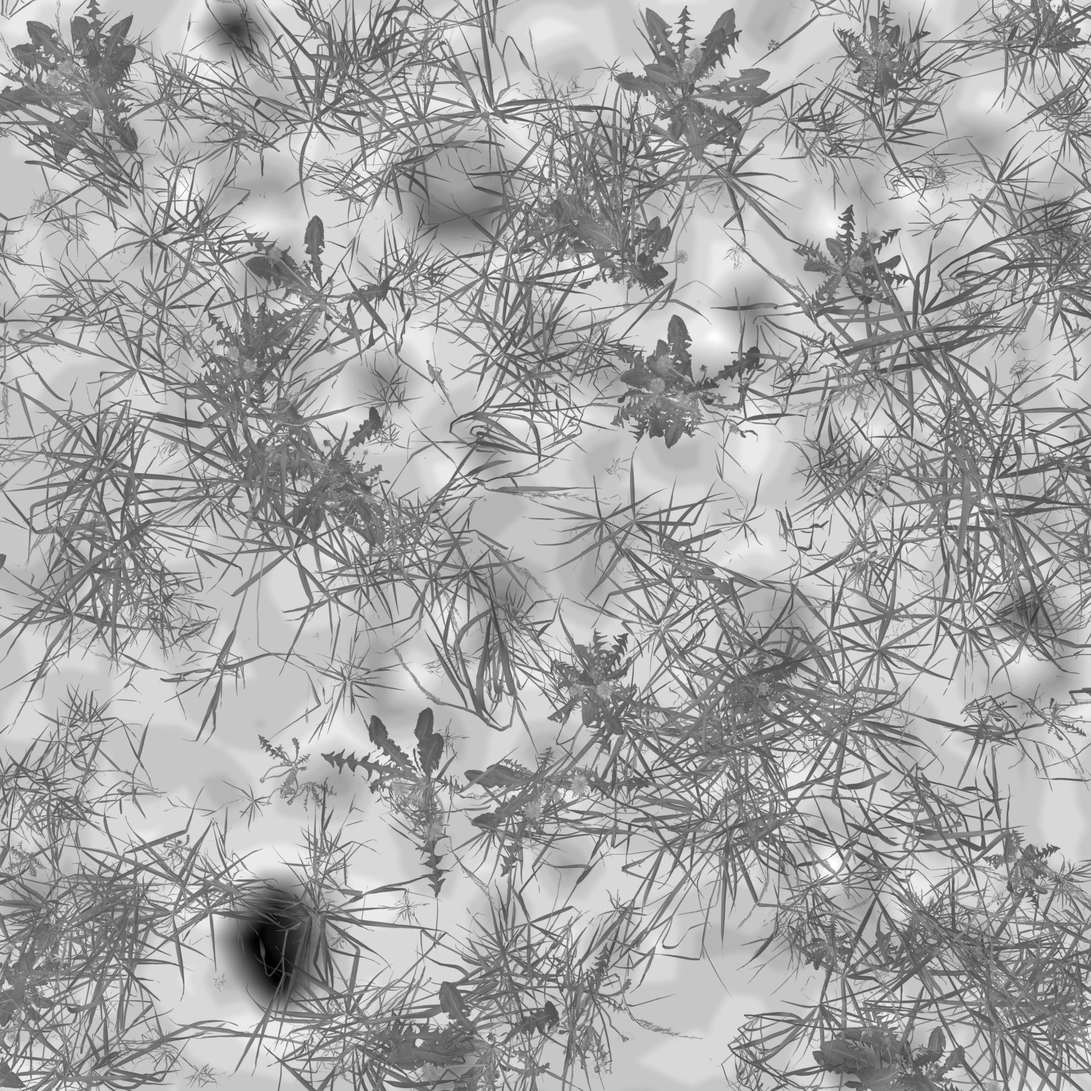landmine: (373, 118, 548, 284), (206, 868, 362, 1031)
